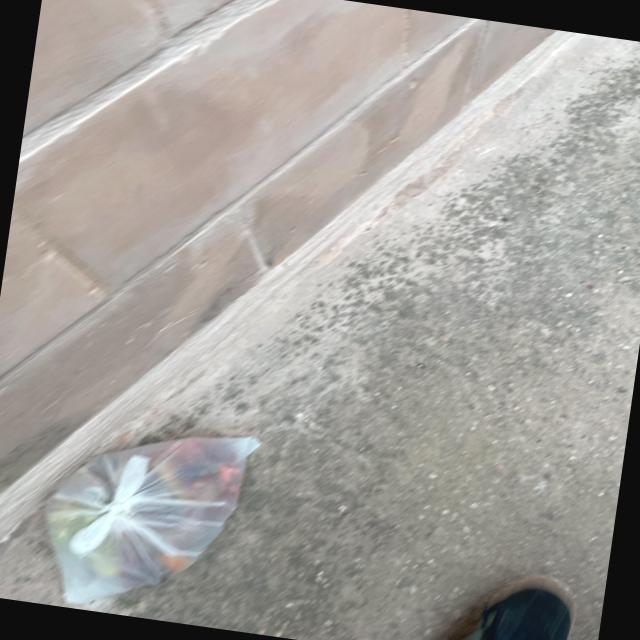white_bag: (22, 409, 266, 632)
